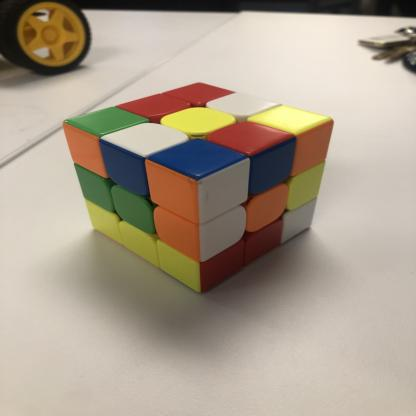UnsolvedCube: (32, 66, 344, 317)
